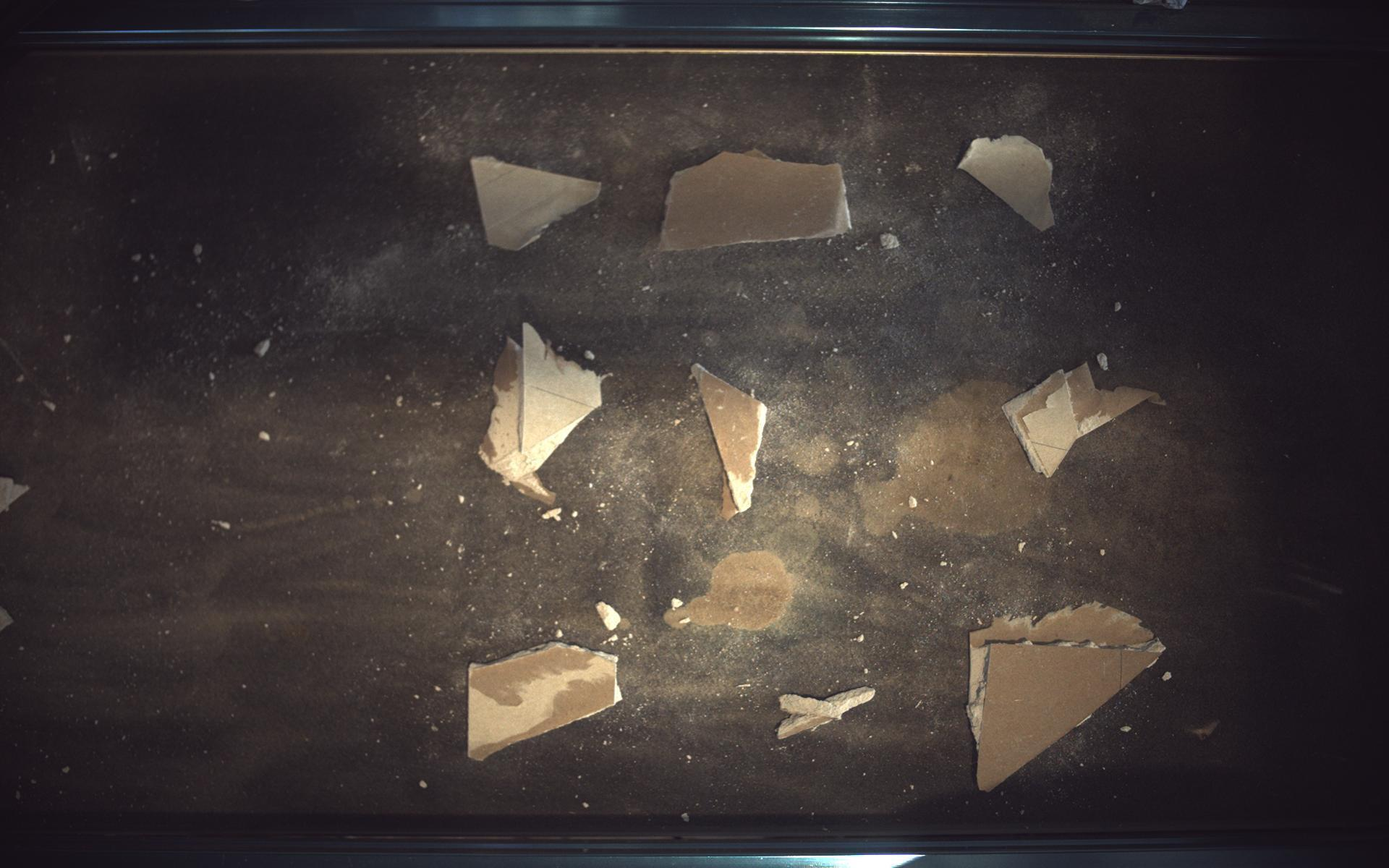gypsum_board: (969, 603, 1168, 793), (479, 323, 605, 506), (660, 150, 853, 250), (468, 642, 622, 762), (1005, 364, 1167, 477), (471, 156, 601, 250), (692, 363, 768, 520), (960, 134, 1057, 229), (778, 688, 877, 741)
